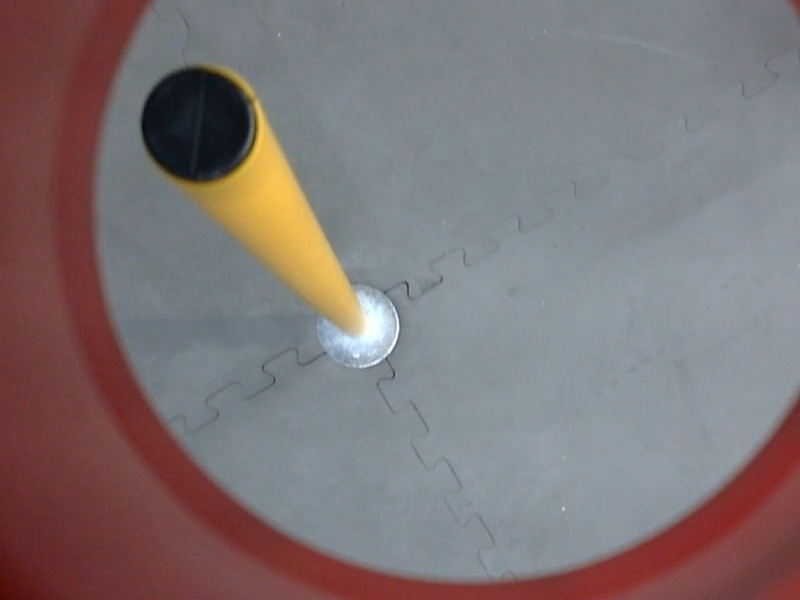tip: (128, 55, 270, 193)
